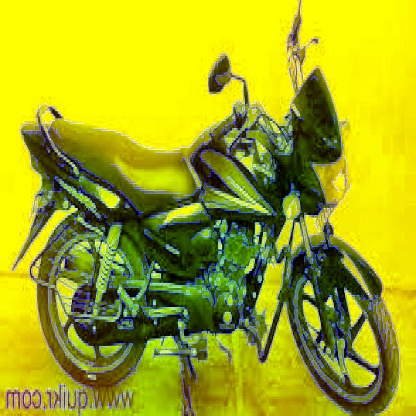bike: (14, 54, 403, 409)
